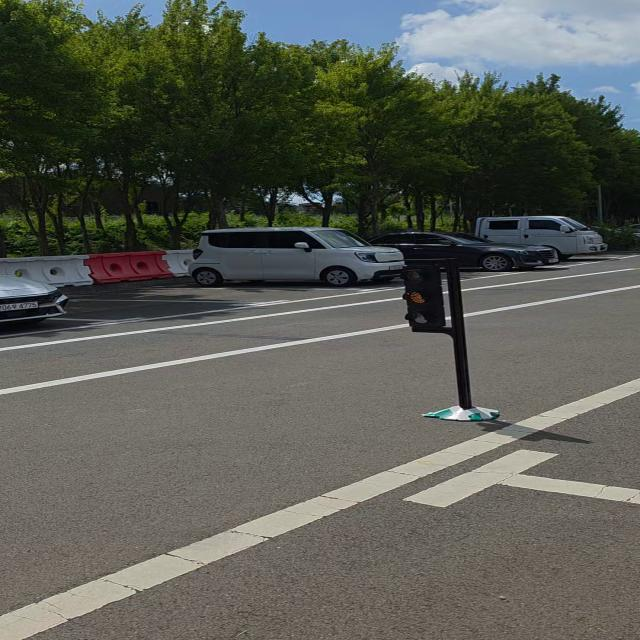yellow: (394, 256, 453, 333)
